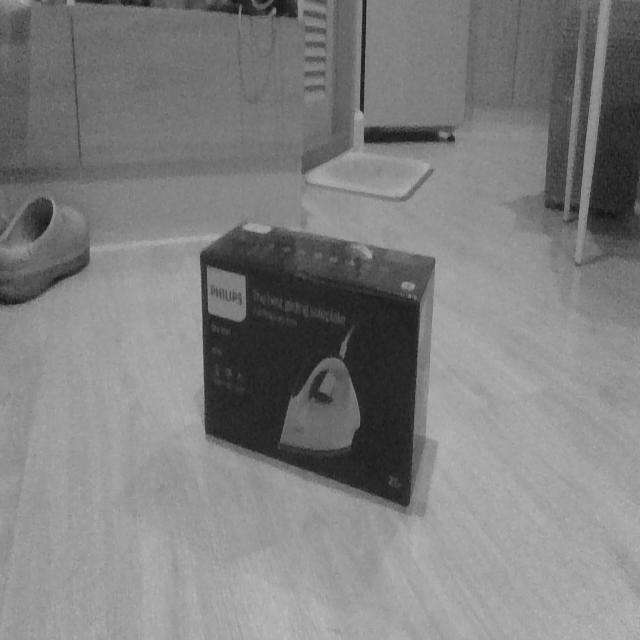Dryer: (197, 216, 437, 510)
